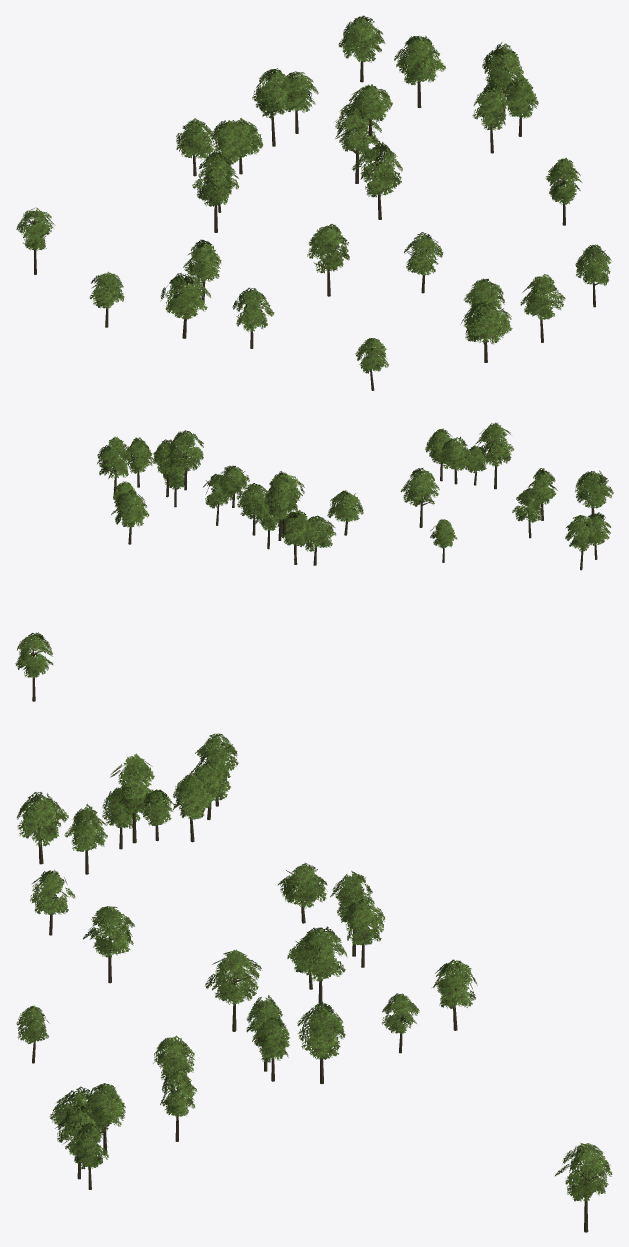
File: TRB8-FOREST-CHUNK-1-0.glb
3 views of the same model, one above another, from view 1: azimuth 30°, elevation 25°; view 2: azimuth 150°, elevation 25°; view 3: azimuth 270°, elevation 25° (orthographic). The views are drawn at different scales.
Visible parts, largest first — view 1: TRB8-FOREST-CHUNK-1-0; view 2: TRB8-FOREST-CHUNK-1-0; view 3: TRB8-FOREST-CHUNK-1-0.
Part boxes in pixels (x1,y1,x2,y2): TRB8-FOREST-CHUNK-1-0: [16, 15, 611, 390]; TRB8-FOREST-CHUNK-1-0: [15, 422, 613, 701]; TRB8-FOREST-CHUNK-1-0: [16, 733, 612, 1232].
Size of the model in its own units: 41.77 by 19.67 by 36.2.
Materials: 2 (1 with a texture image).
